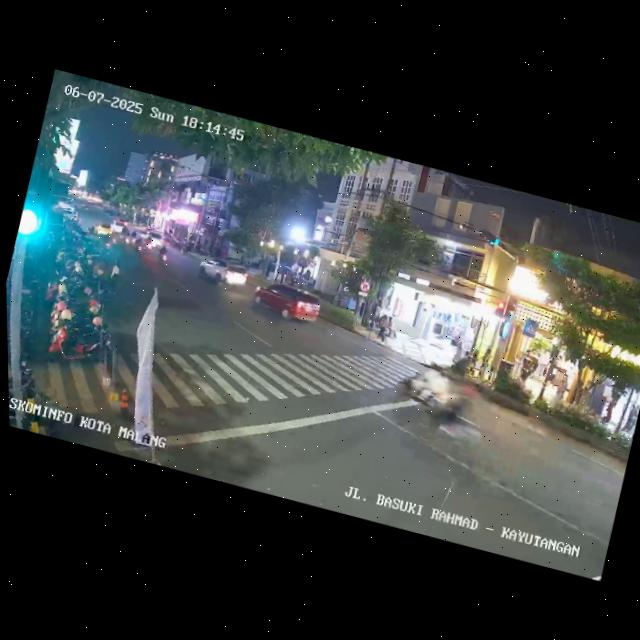car: (248, 276, 325, 331), (194, 252, 254, 296)
motorcycle: (389, 357, 482, 436), (154, 241, 172, 267)
person: (102, 256, 126, 300), (549, 369, 569, 406), (372, 312, 394, 344), (623, 402, 640, 439), (449, 336, 466, 369)
